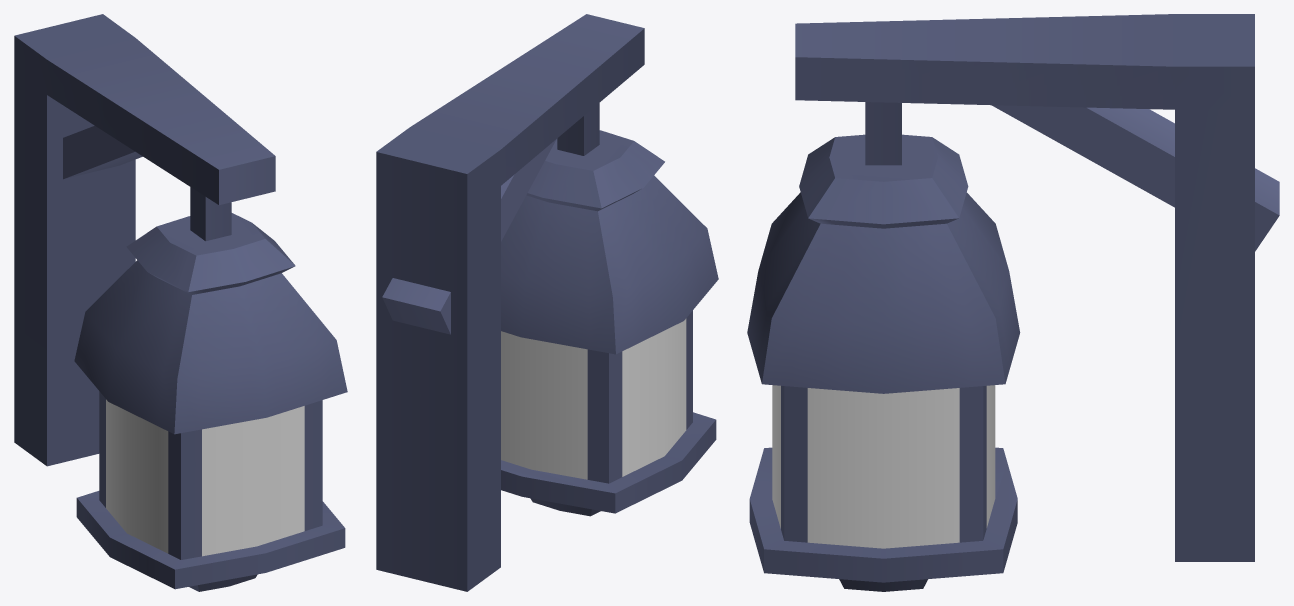
Rendered from Lantern.fbx.
3 views of the same model, side by side, from view 1: azimuth 30°, elevation 25°; view 2: azimuth 150°, elevation 25°; view 3: azimuth 270°, elevation 25° (orthographic). The views are drawn at different scales.
Parts seen in each view (by area): view 1: Cube.062; view 2: Cube.062; view 3: Cube.062.
Boxes of the visible parts, left/top/right/bottom form: Cube.062: left=14, top=14, right=347, bottom=591; Cube.062: left=376, top=14, right=718, bottom=591; Cube.062: left=747, top=14, right=1279, bottom=591.
Size of the model in its own units: 15.7 by 31.86 by 28.91.
